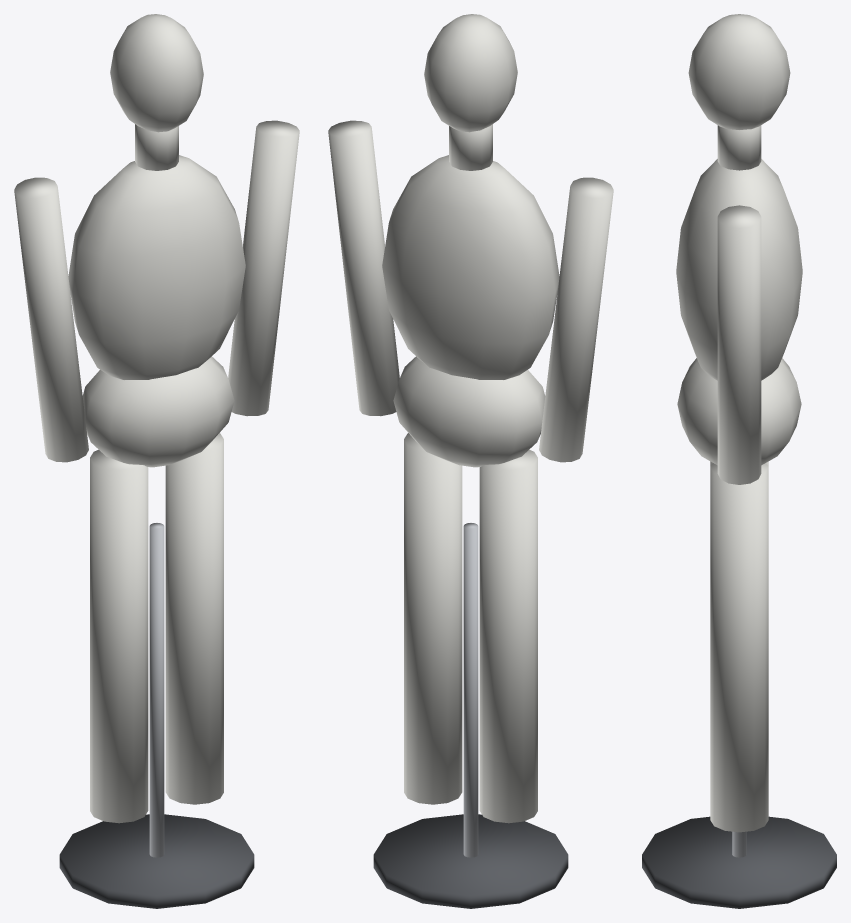
File: mannequin.glb
3 views of the same model, side by side, from view 1: azimuth 30°, elevation 25°; view 2: azimuth 150°, elevation 25°; view 3: azimuth 270°, elevation 25° (orthographic).
Visible parts, largest first — view 1: mannequin; view 2: mannequin; view 3: mannequin.
Part boxes in pixels (bbox=[...]): mannequin: bbox=[14, 14, 299, 908]; mannequin: bbox=[328, 14, 613, 908]; mannequin: bbox=[642, 14, 836, 908].
Size of the model in its own units: 0.6636 by 1.93 by 0.4.
Materials: 1 (1 with a texture image).
